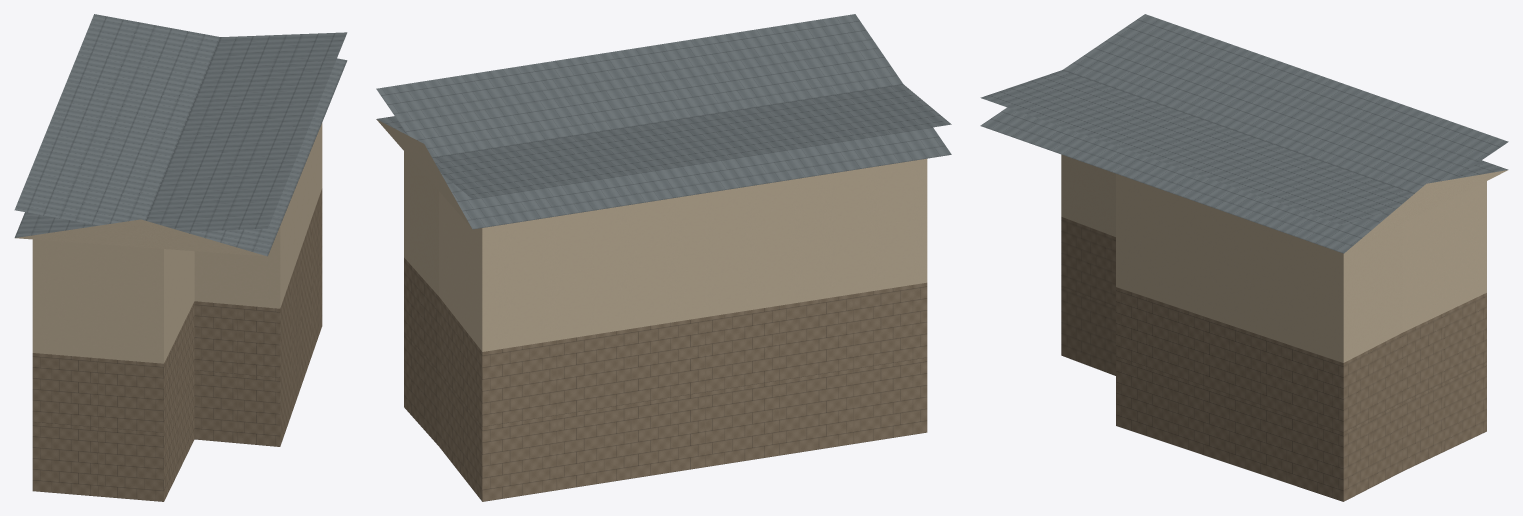
The model's file is bld_c12_10_505.gltf.
3 renders of one model, left to right at view 1: azimuth 30°, elevation 25°; view 2: azimuth 150°, elevation 25°; view 3: azimuth 270°, elevation 25°, orthographic. The views are drawn at different scales.
Visible parts, largest first — view 1: bld_c12_10_505; view 2: bld_c12_10_505; view 3: bld_c12_10_505.
Boxes of the visible parts, left/top/right/bottom form: bld_c12_10_505: left=14, top=14, right=347, bottom=501; bld_c12_10_505: left=376, top=14, right=951, bottom=501; bld_c12_10_505: left=980, top=14, right=1508, bottom=501.
Bounding box in the file's own units: 16.2 × 10.3 × 17.1.
Materials: 4 (4 with a texture image).
